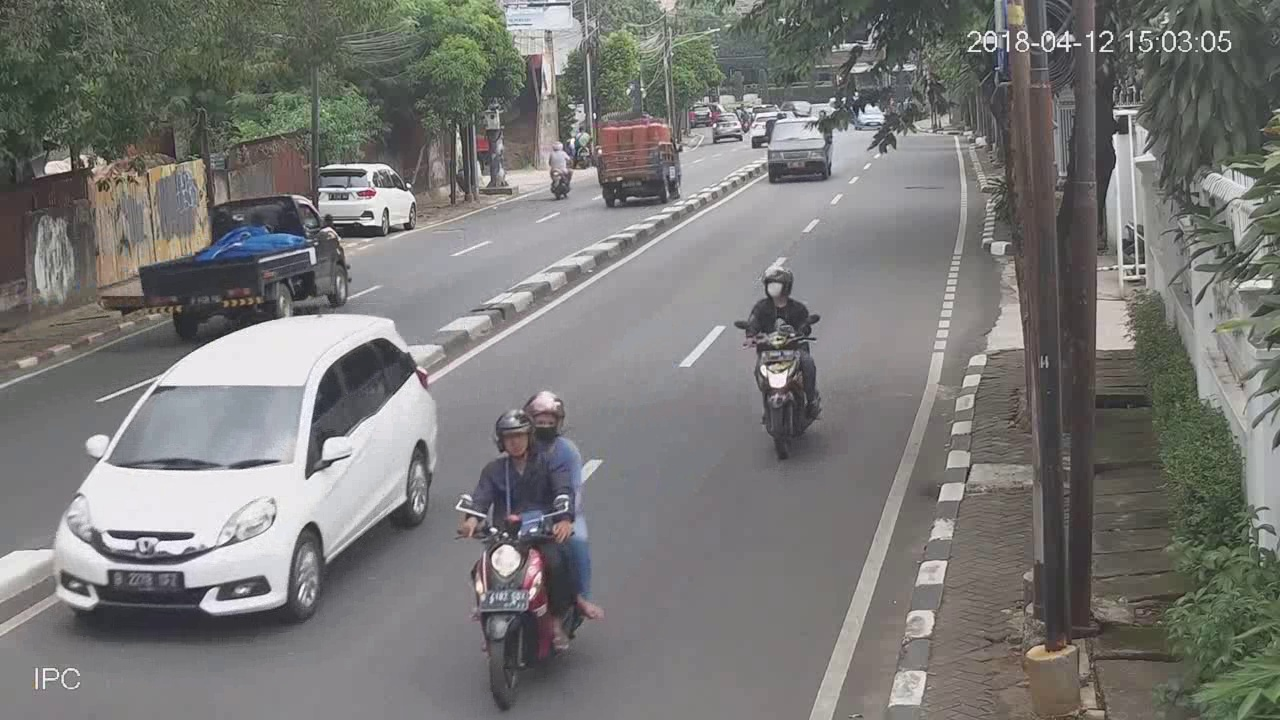car: (54, 314, 436, 626), (311, 162, 419, 238), (765, 114, 834, 181)
motorcycle: (456, 387, 601, 712), (736, 266, 826, 466), (546, 137, 574, 202)
truck: (138, 195, 352, 336), (594, 116, 683, 207)
